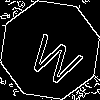W: (25, 25, 89, 89)
